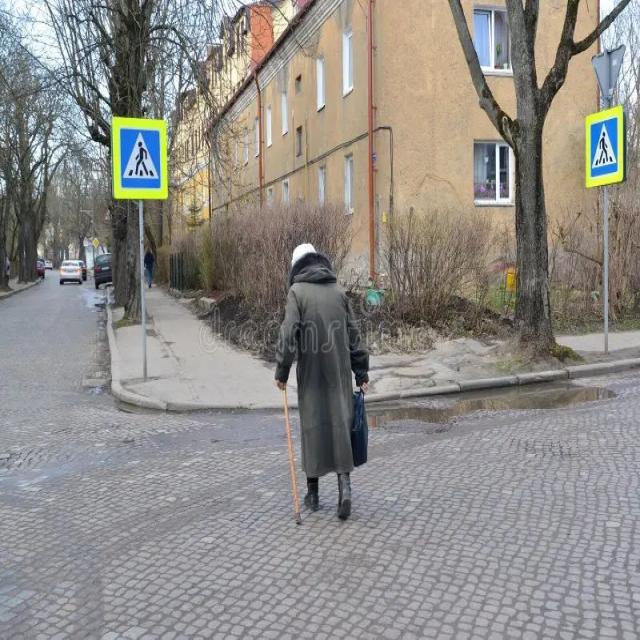idoso em pe: (263, 232, 370, 536)
